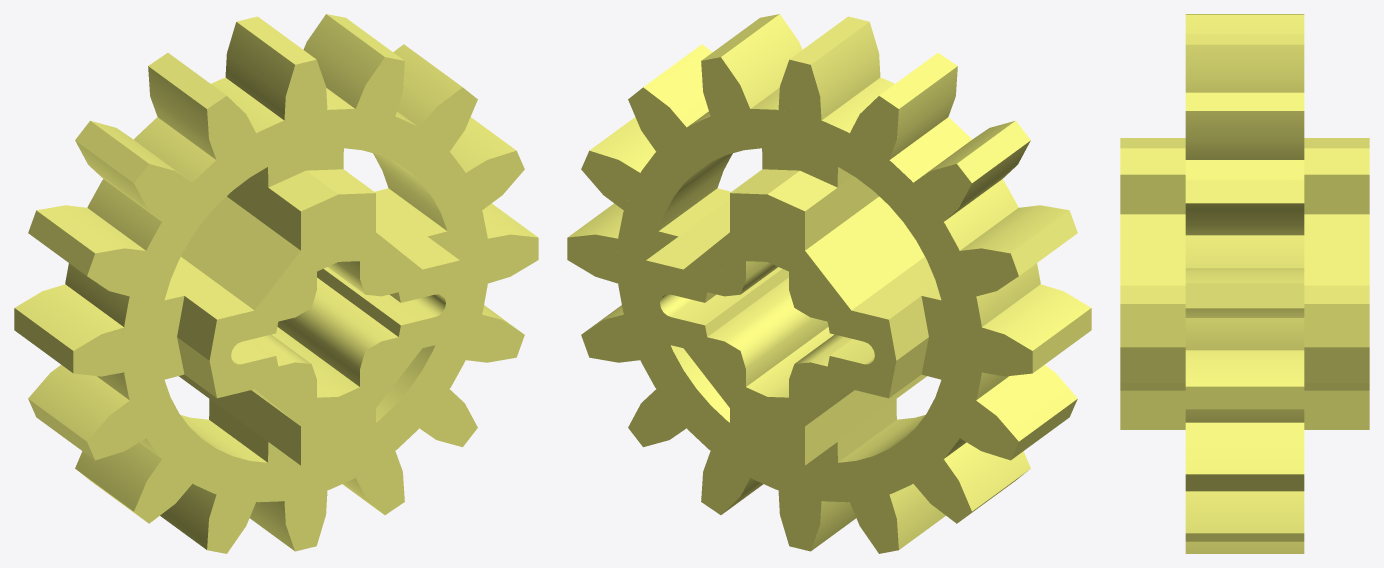
3 views of the same model, side by side, from view 1: azimuth 30°, elevation 25°; view 2: azimuth 150°, elevation 25°; view 3: azimuth 270°, elevation 25° (orthographic).
Visible parts, largest first — view 1: 94925.dat; view 2: 94925.dat; view 3: 94925.dat.
Boxes of the visible parts, <box> form: 94925.dat: <box>14,14,538,553</box>; 94925.dat: <box>567,14,1091,553</box>; 94925.dat: <box>1120,14,1369,553</box>.
Bounding box in the file's own units: 0.0173 × 0.0173 × 0.008.
